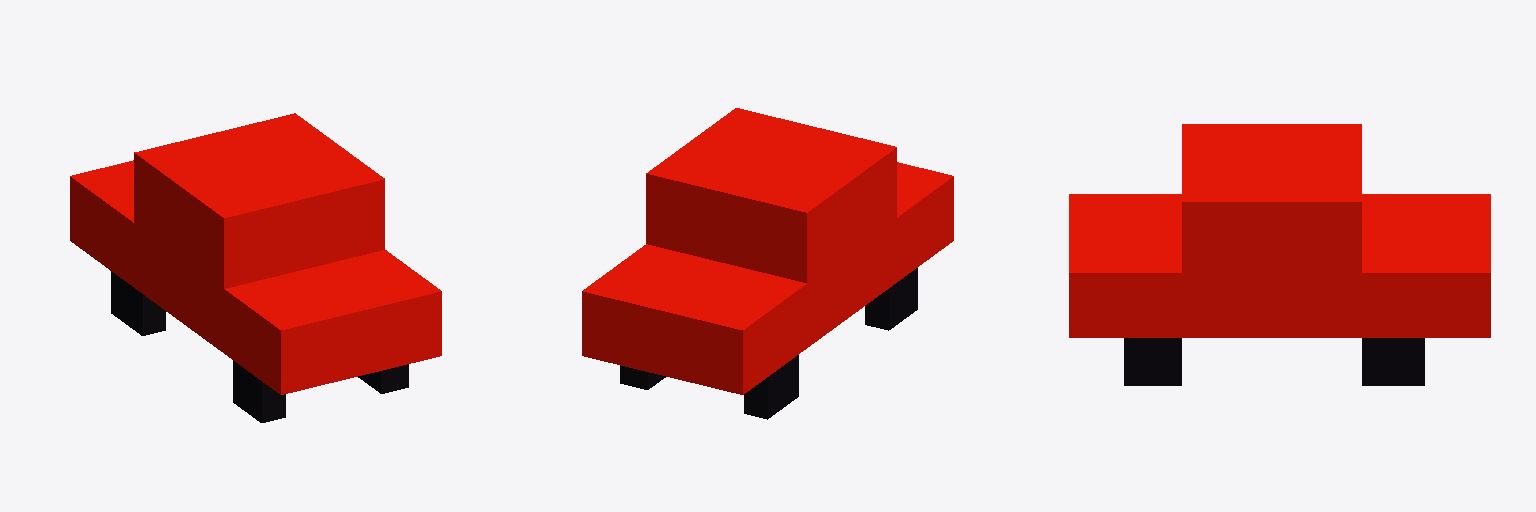
Rendered from car.obj.
3 renders of one model, left to right at view 1: azimuth 30°, elevation 25°; view 2: azimuth 150°, elevation 25°; view 3: azimuth 270°, elevation 25°, orthographic.
Parts seen in each view (by area): view 1: car; view 2: car; view 3: car.
Boxes of the visible parts, <box> form: car: <box>70,113,441,422</box>; car: <box>582,108,953,419</box>; car: <box>1069,124,1490,385</box>.
Size of the model in its own units: 2.13 by 2.35 by 4.84.